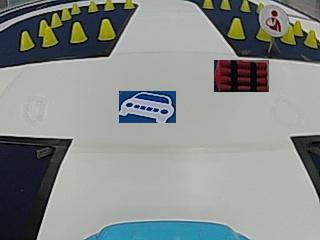cone: (227, 17, 245, 39), (70, 22, 88, 43), (98, 19, 115, 41), (41, 24, 58, 46), (281, 25, 296, 45), (20, 31, 34, 50), (304, 29, 318, 48), (51, 13, 62, 26), (122, 0, 135, 10), (61, 7, 71, 20), (103, 0, 114, 11), (87, 1, 98, 12), (240, 0, 250, 12), (220, 0, 231, 10), (71, 3, 81, 14), (202, 0, 214, 9)
patient: (258, 4, 288, 36)
